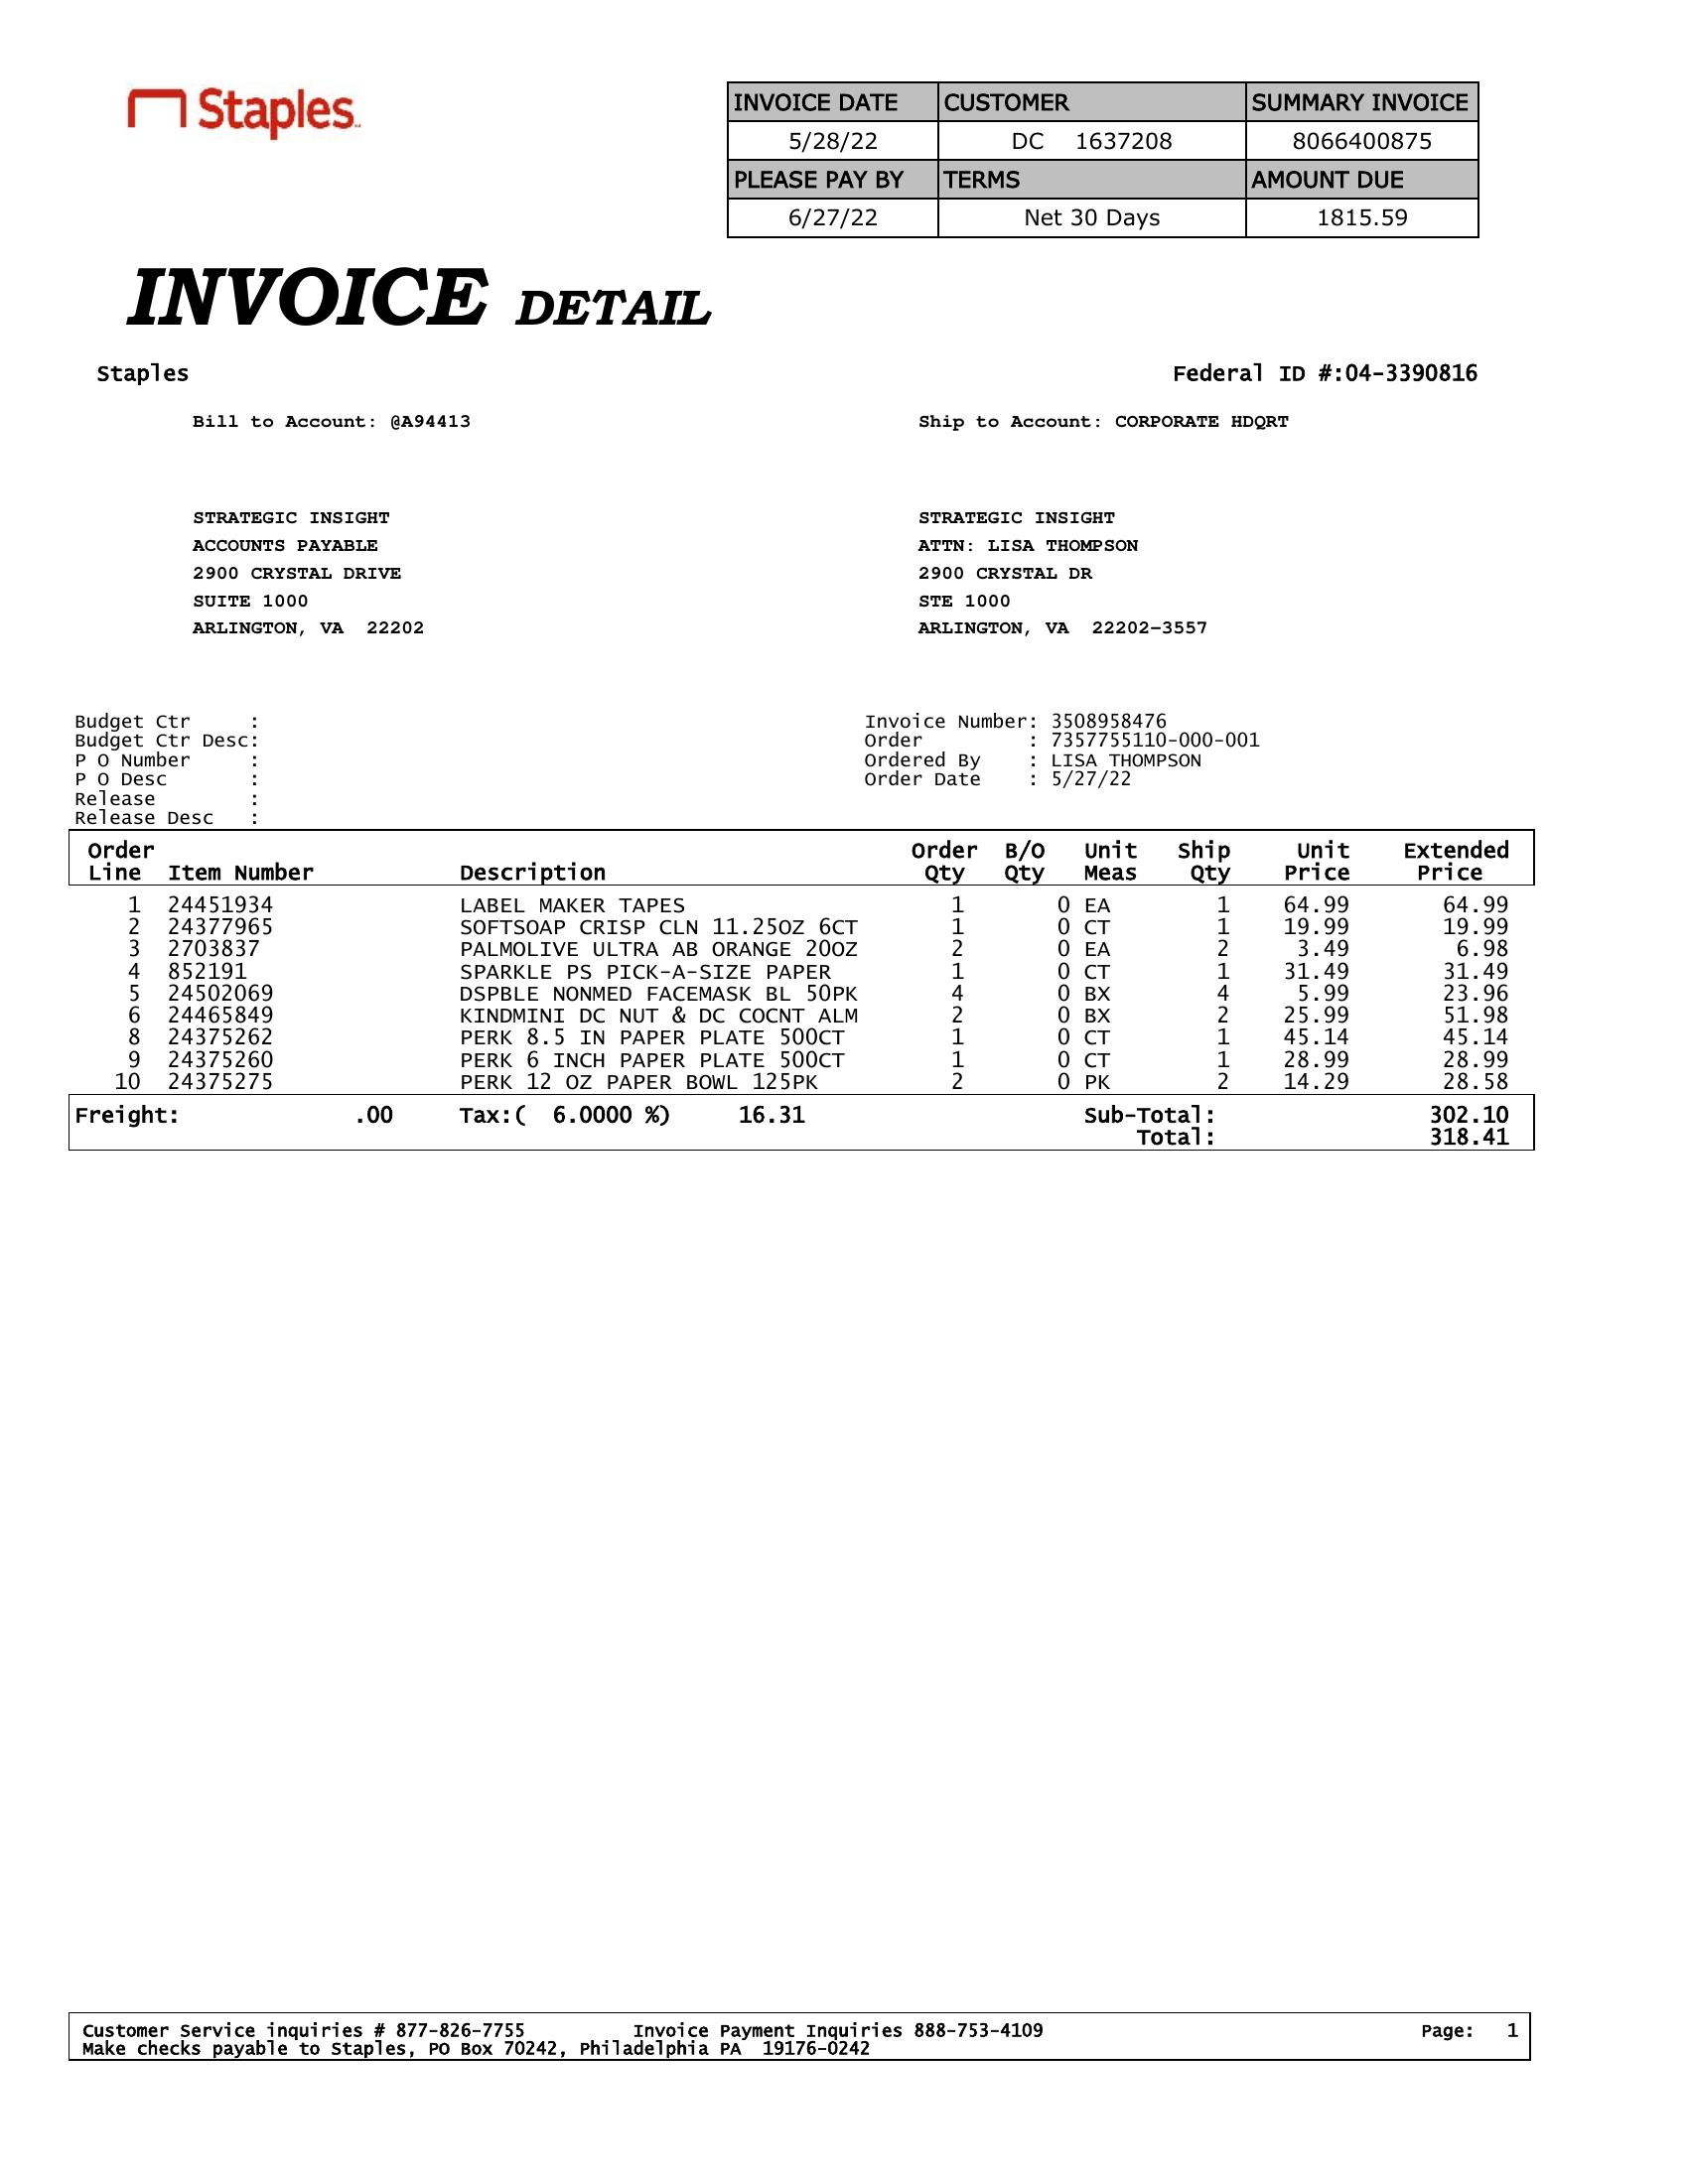table: (62, 831, 1544, 1094), (720, 78, 1488, 246)
